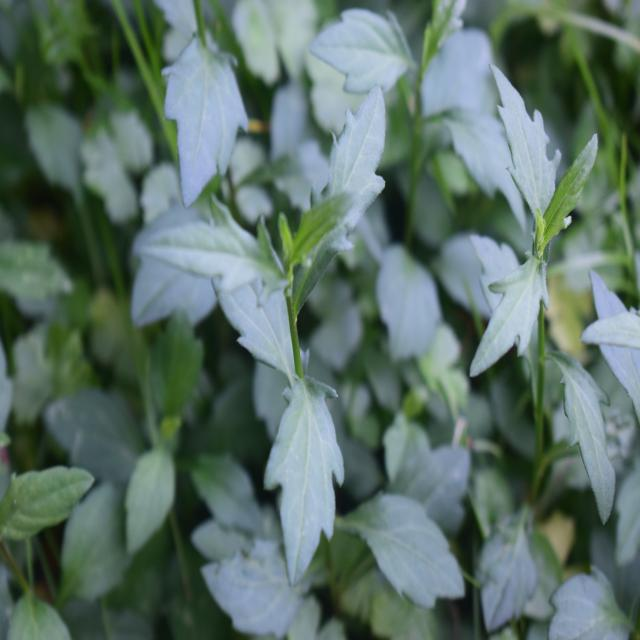Indian aster: (160, 126, 458, 596), (452, 78, 612, 510)
